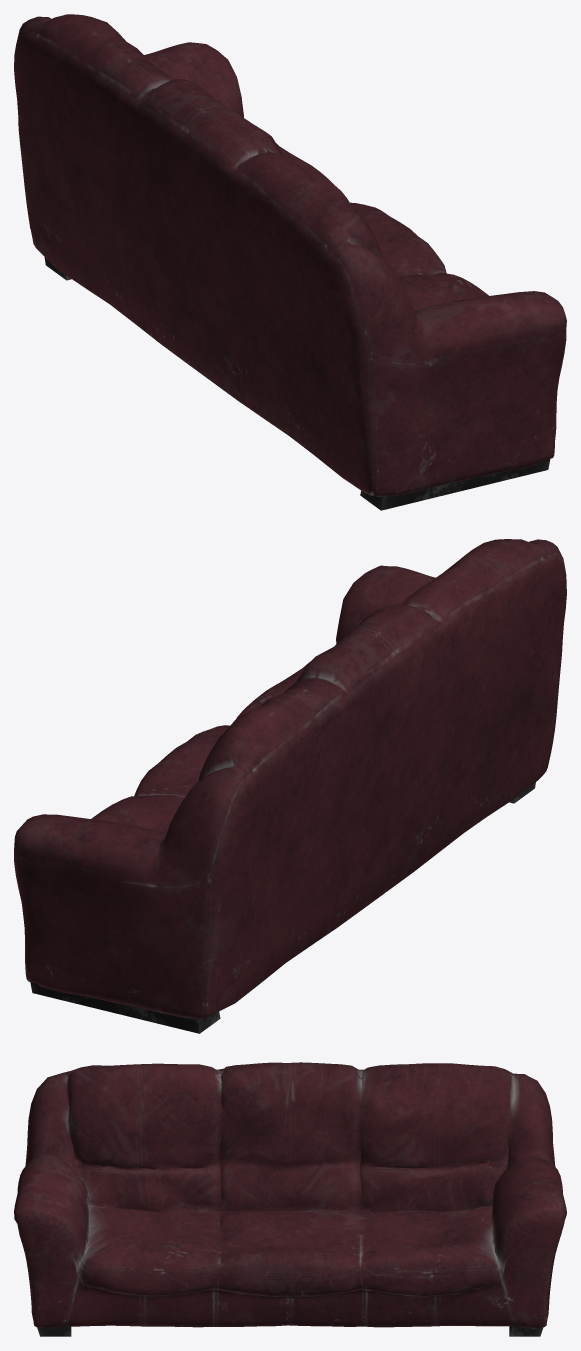
File: leather_sofa.glb
3 renders of one model, top to bottom at view 1: azimuth 30°, elevation 25°; view 2: azimuth 150°, elevation 25°; view 3: azimuth 270°, elevation 25°, orthographic. The views are drawn at different scales.
Visible parts, largest first — view 1: Sofa_low, Patas_low; view 2: Sofa_low, Patas_low; view 3: Sofa_low, Patas_low.
Boxes of the visible parts, x1,y1,x2,y2 form: Sofa_low: (14, 14, 566, 497); Patas_low: (44, 257, 550, 510); Sofa_low: (14, 539, 566, 1019); Patas_low: (30, 782, 535, 1033); Sofa_low: (14, 1062, 566, 1328); Patas_low: (37, 1326, 542, 1336).
Bounding box in the file's own units: 0.0144 × 0.0165 × 0.0392.
Materials: 1 (1 with a texture image).
